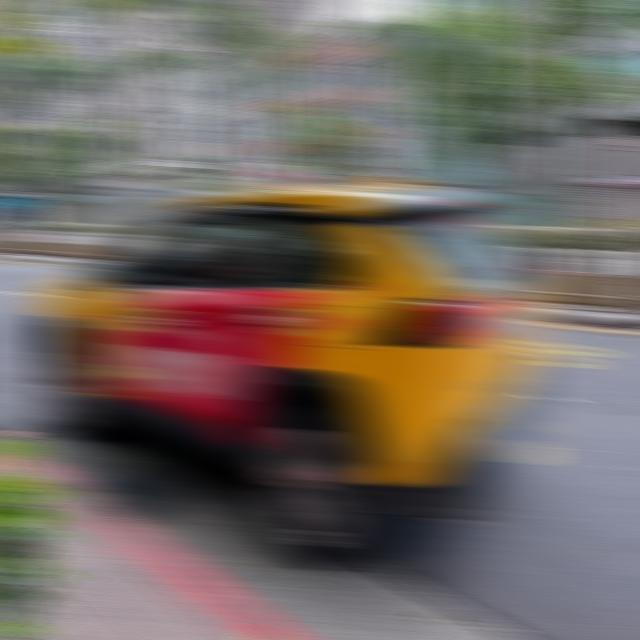Taxi: (28, 178, 550, 568)
